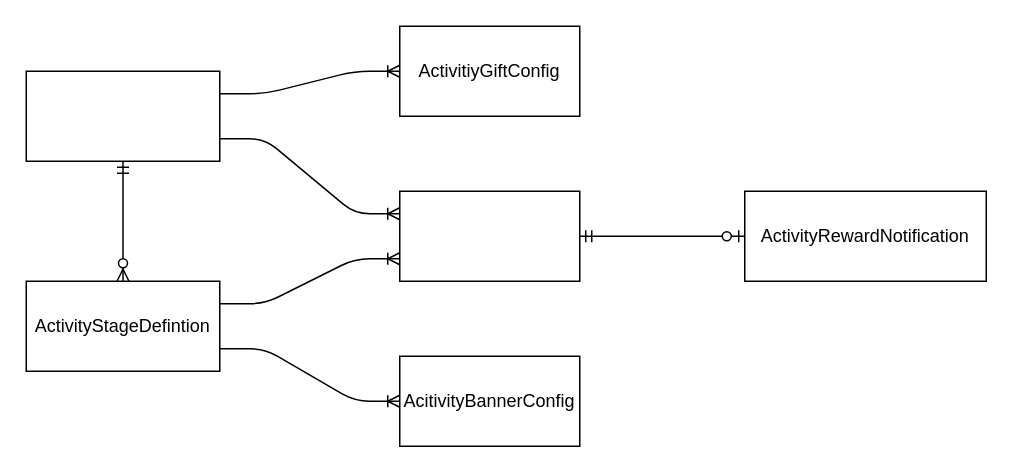
Some shapes in this 1013 by 473 pixel diagram are drawn without their labels. Here are the shapes that lost their labels. From the top down, the centre of each, then its label:
pixel 122 115: ActivityDefintion
pixel 489 235: ActivityRewardConfig
